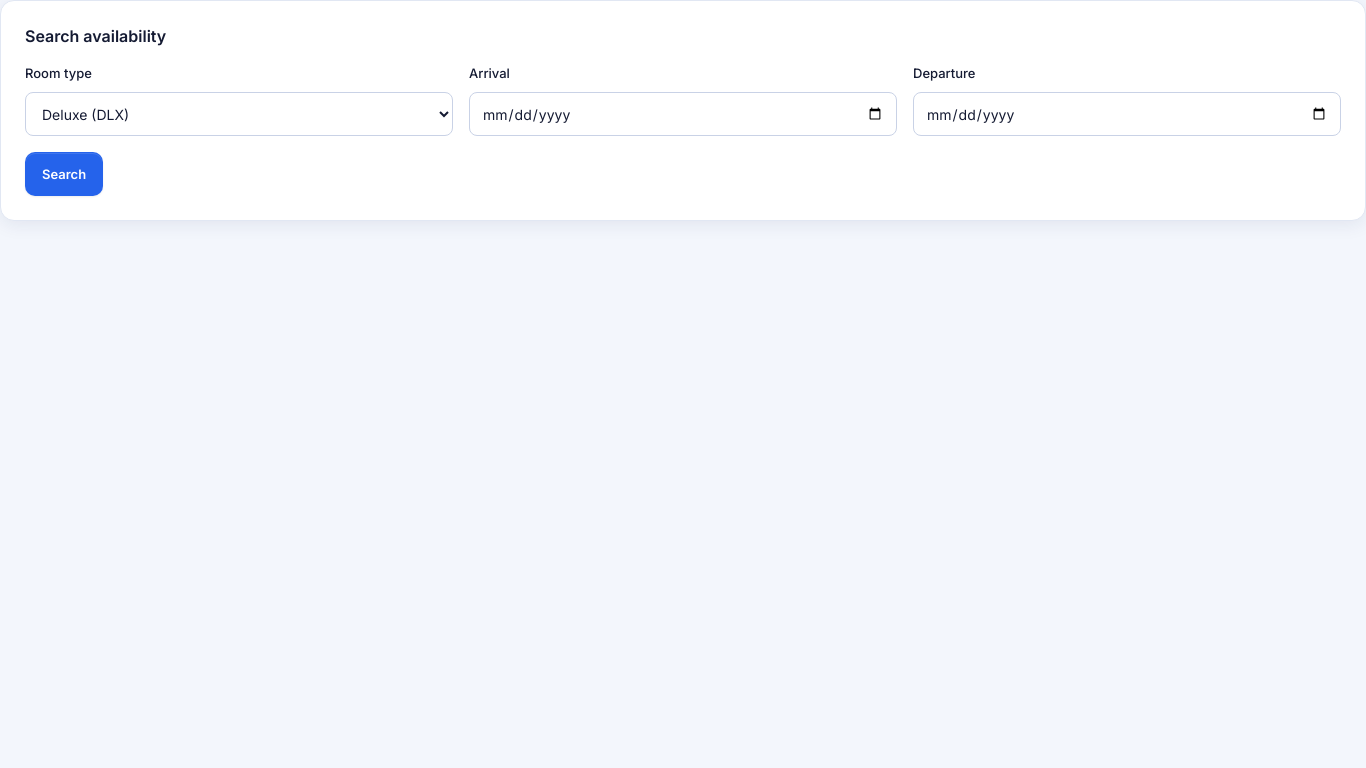
Test case: <AvailabilityTab> › searches availability and shows the sellable count per night
The width and height of the screenshot is (1366, 768).
Select "Deluxe (DLX)" in the dropdown labelled "Room type" at point(239, 114), box [25,92,453,136]
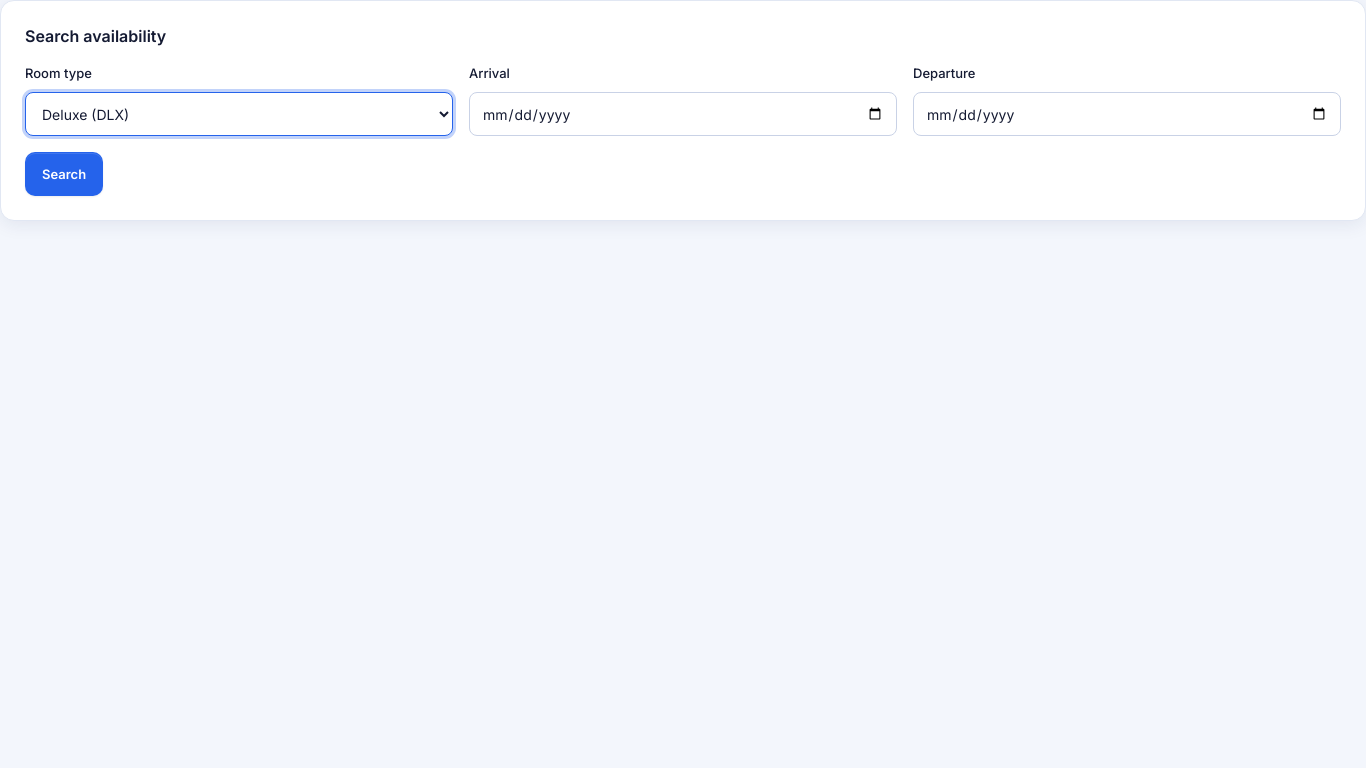
Type "2027-01-01" into the date field labelled "Arrival" at point(683, 114), box [469,92,897,136]
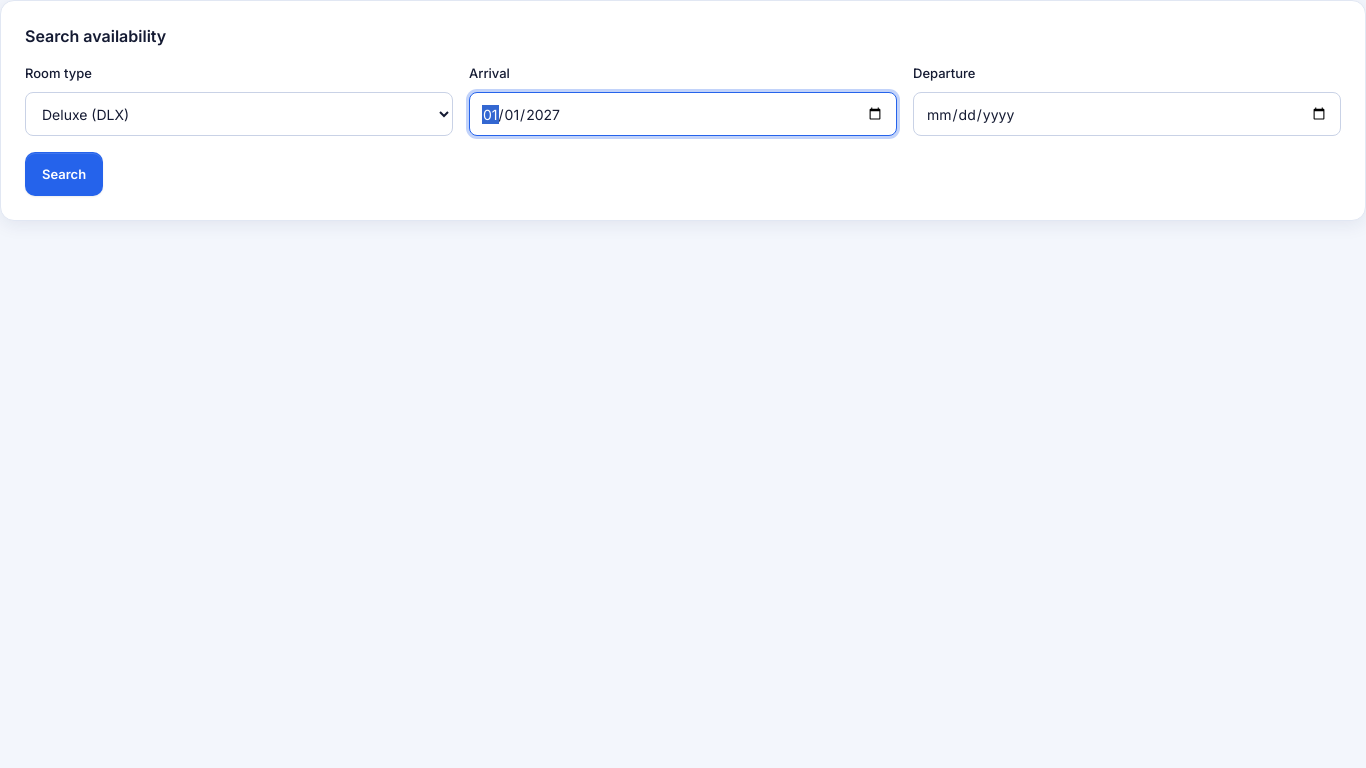
Type "2027-01-02" into the date field labelled "Departure" at point(1127, 114), box [913,92,1341,136]
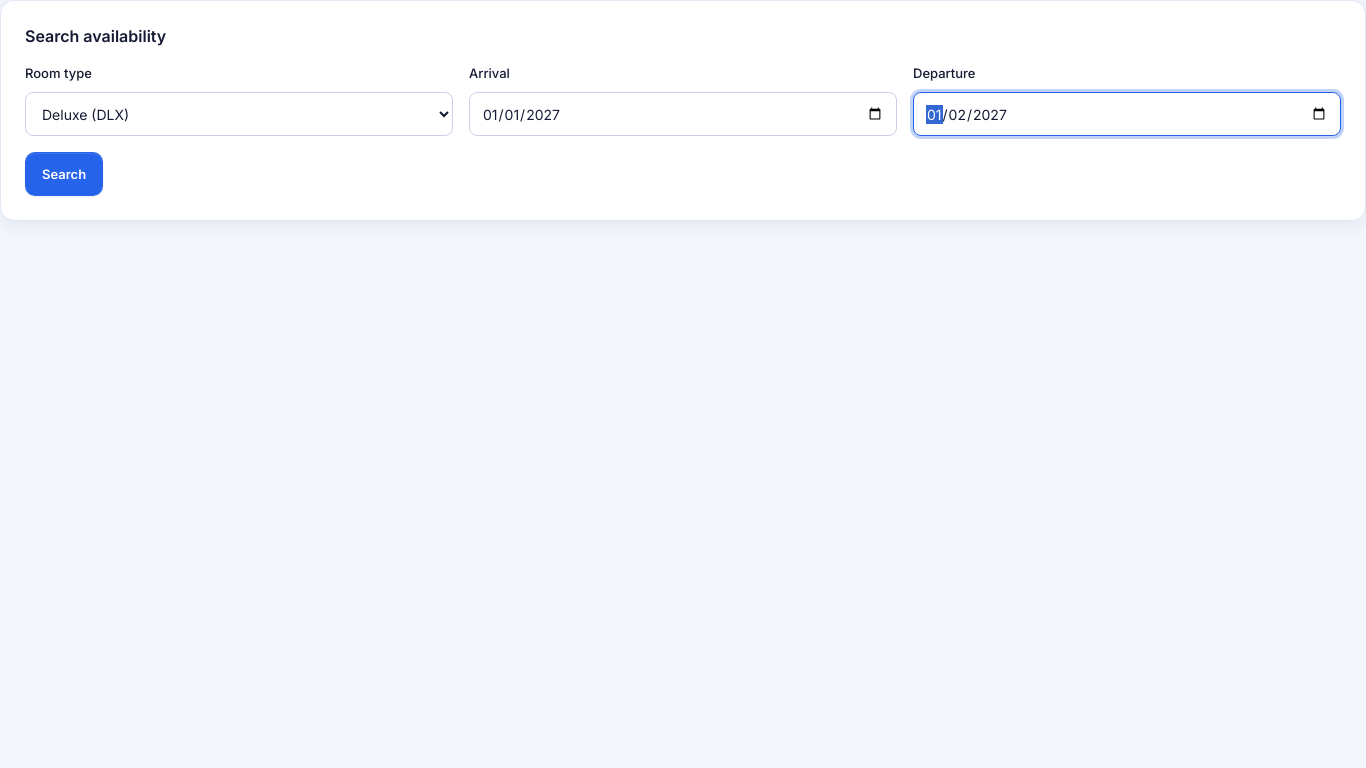
Click the button "Search" at point(64, 174), box [25,152,103,196]
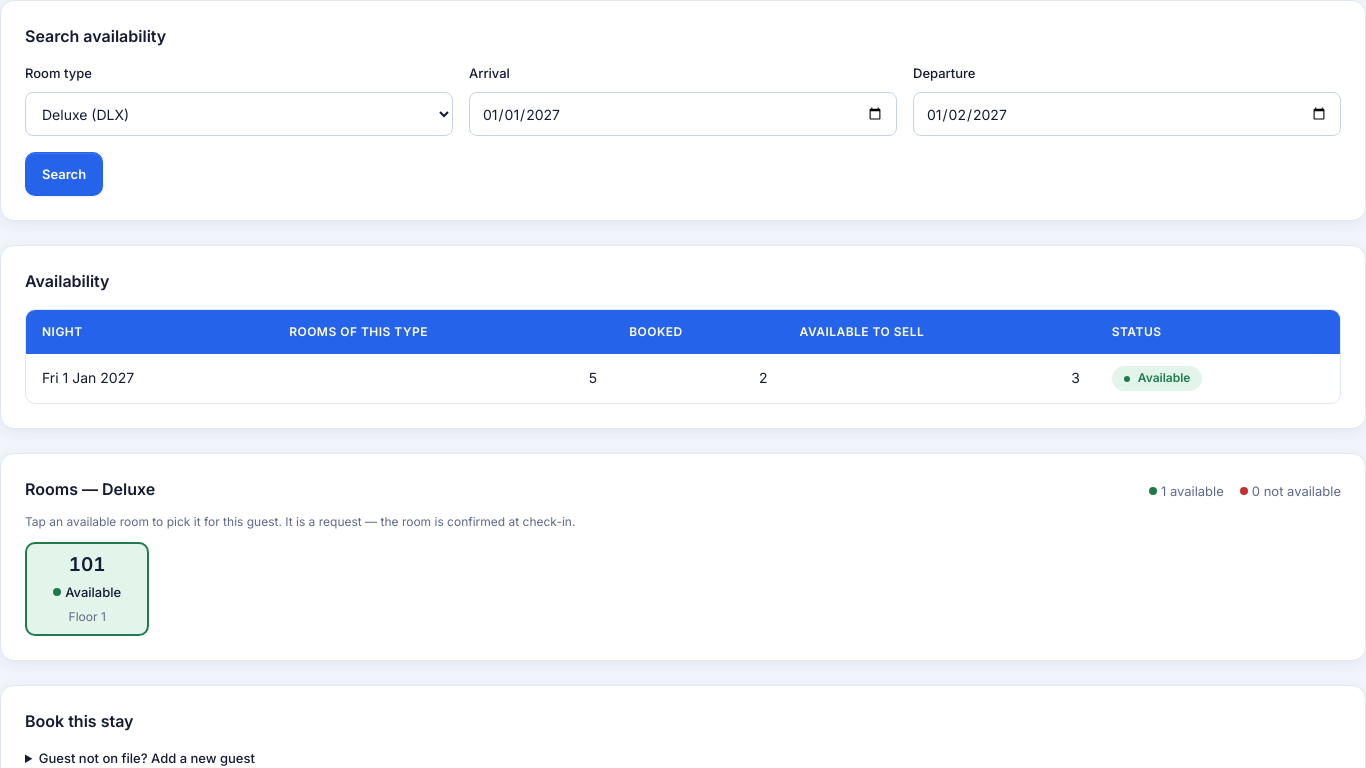
Now the text "Fri 1 Jan 2027" is shown, box [26,353,273,403]
